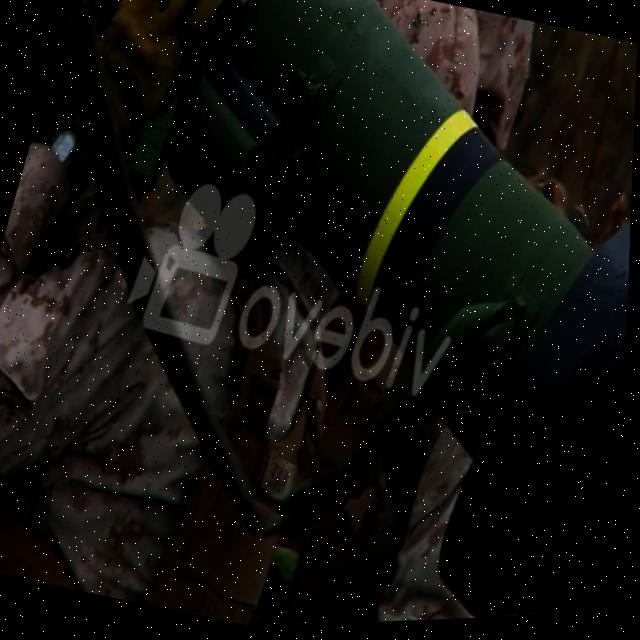rocket: (26, 0, 640, 638)
